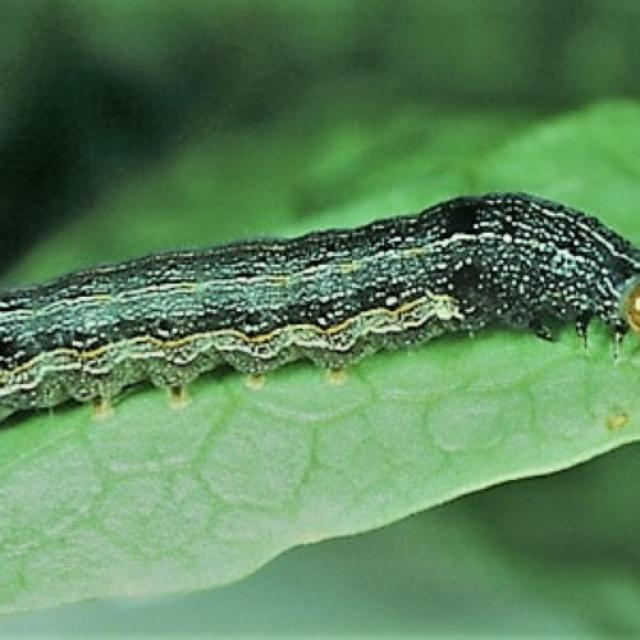armyworm: (0, 187, 639, 456)
